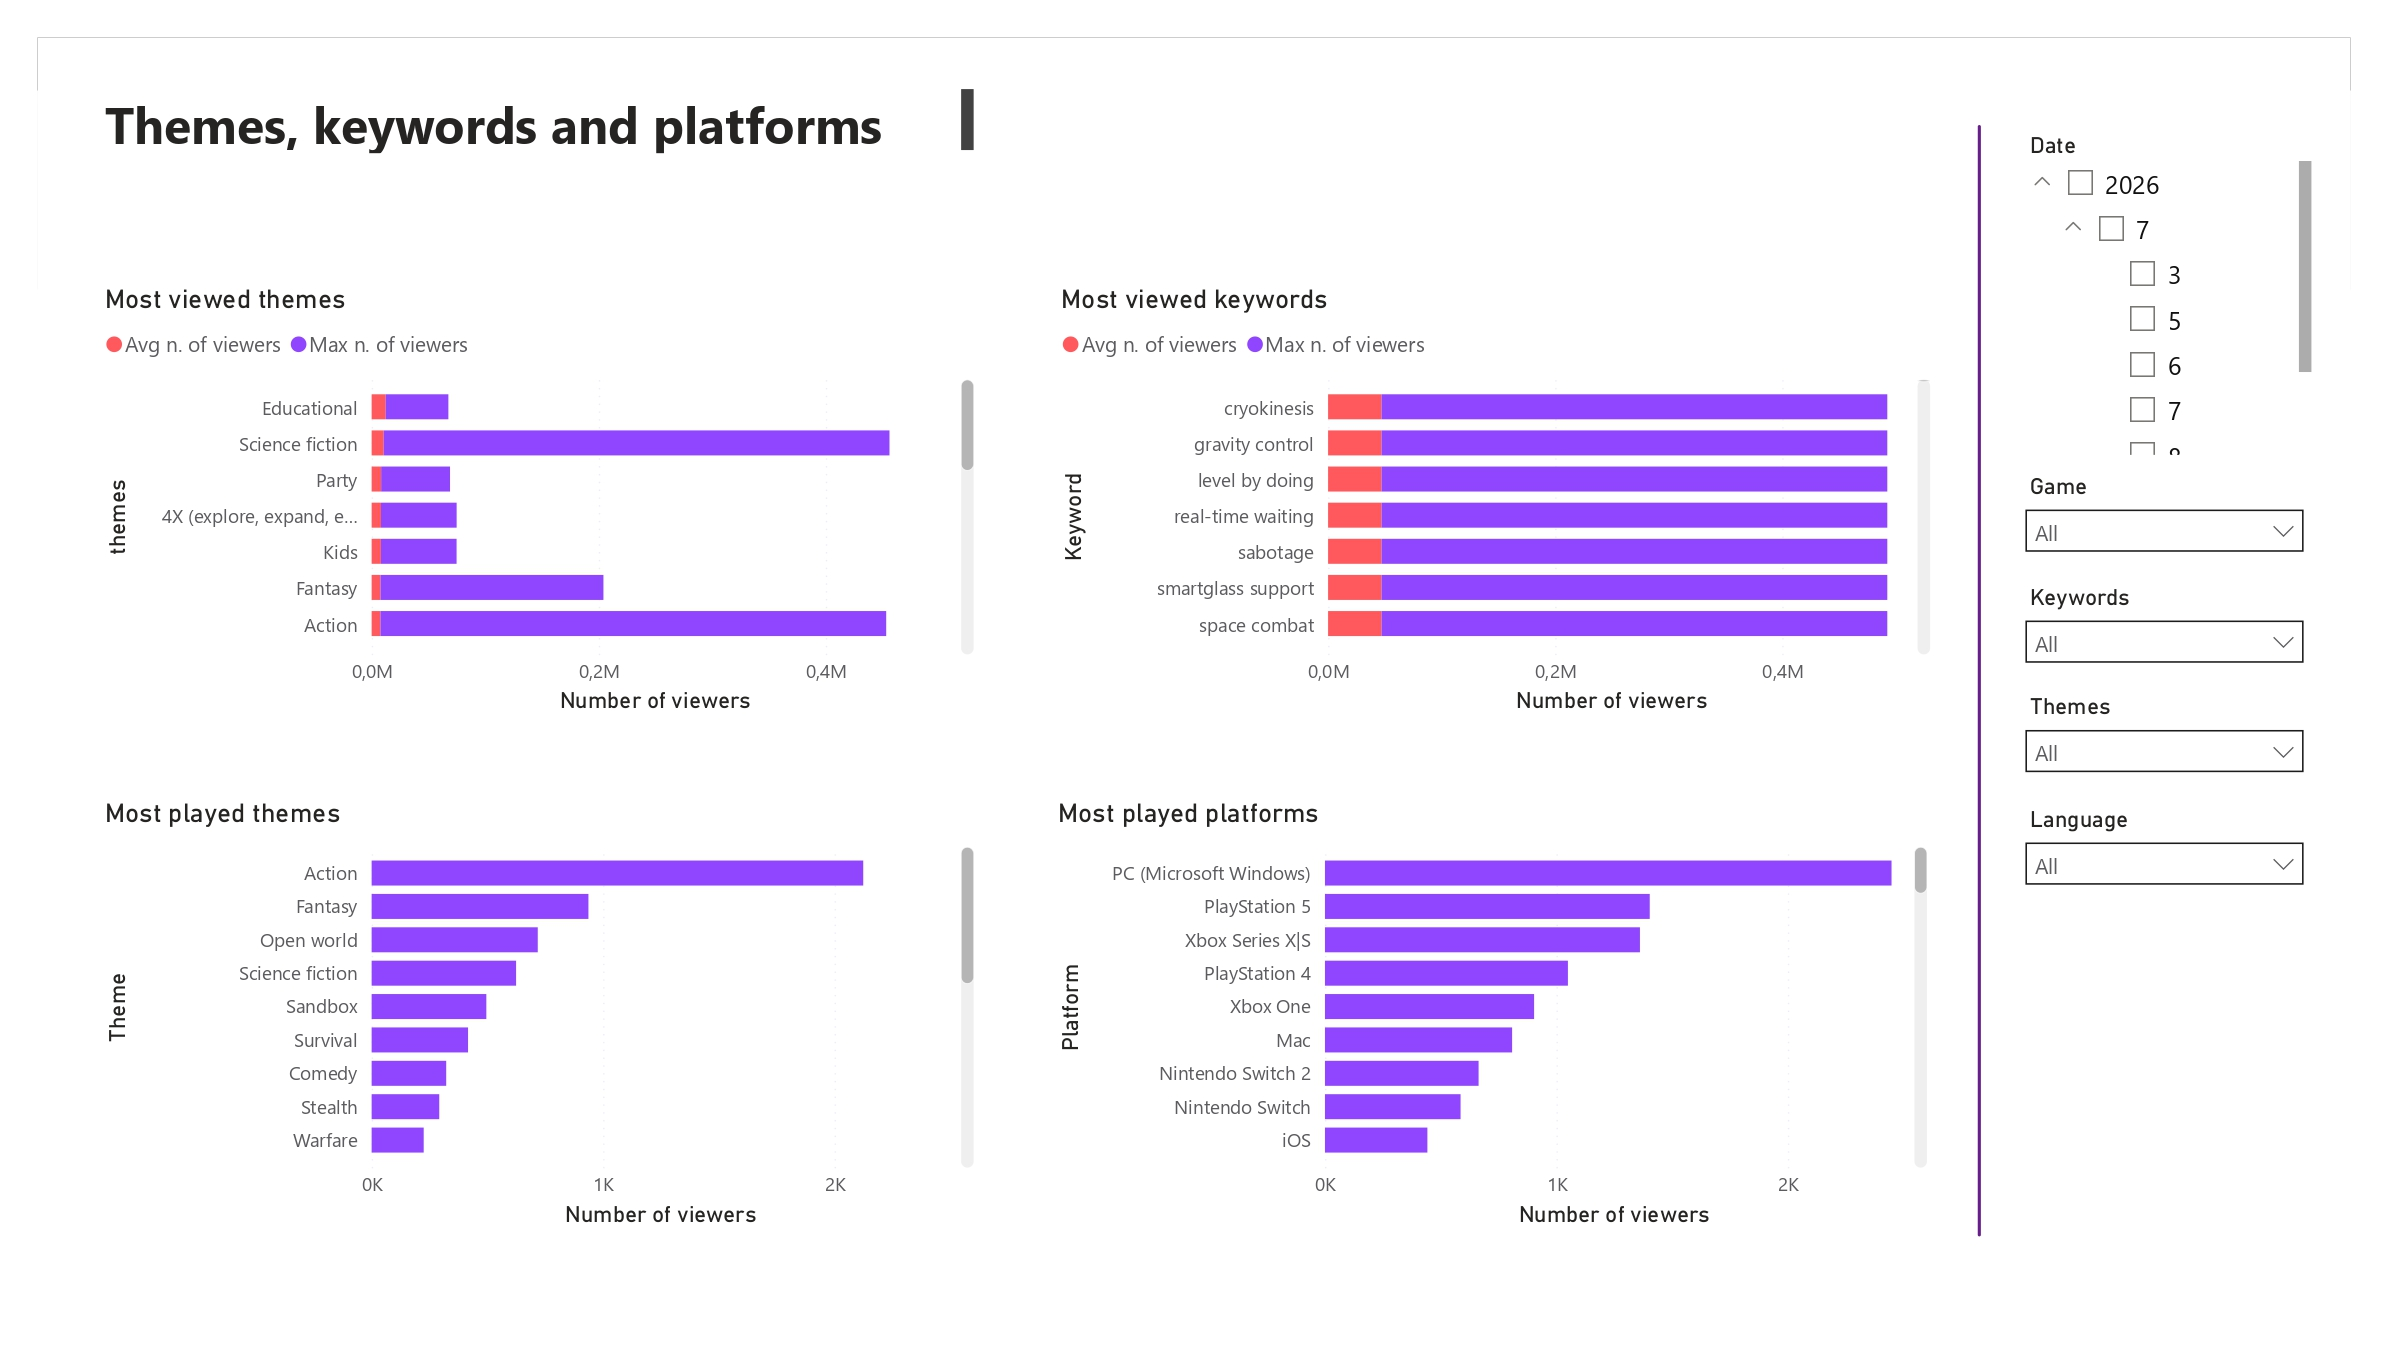

This screenshot's page, from the dashboard's own definition file:
{"tool":"powerbi","page":{"name":"Themes, keywords and platforms","canvas":[1480,820],"ordinal":2},"visuals":[{"type":"slicer","fields":{"Values":["dim_game.game_name"]},"box":[1261.6,273.9,198.7,70.7],"z":0},{"type":"slicer","fields":{"Values":["dim_date.date_year","dim_date.date_month","dim_date.date_day"]},"box":[1261.6,55.7,198.7,217.2],"z":1000},{"type":"slicer","fields":{"Values":["game_themes.themes"]},"box":[1261.6,415.3,198.7,71.7],"z":2000},{"type":"slicer","fields":{"Values":["game_keywords.keywords"]},"box":[1261.6,344.6,198.7,70.7],"z":3000},{"type":"shape","box":[1214.4,55.6,56.7,711.7],"z":4000},{"type":"barChart","title":"Most viewed themes","fields":{"Category":["game_themes.themes"],"Y":["fact_stream_hourly.avg_viewers","Max(fact_stream_hourly.max_viewers)"]},"box":[38,157,566,280],"z":5000},{"type":"barChart","title":"Most played themes","fields":{"Category":["game_themes.themes"],"Y":["fact_stream_hourly.hours_online"]},"box":[38,486,566,280],"z":6000},{"type":"barChart","title":"Most viewed keywords","fields":{"Category":["game_keywords.keywords"],"Y":["fact_stream_hourly.avg_viewers","Max(fact_stream_hourly.max_viewers)"]},"box":[650,157,566,280],"z":7000},{"type":"barChart","title":"Most played platforms","fields":{"Category":["game_platforms.platforms"],"Y":["fact_stream_hourly.hours_online"]},"box":[648,486,566,280],"z":8000},{"type":"textbox","box":[38,28,566,51],"z":9000},{"type":"slicer","fields":{"Values":["dim_language.language"]},"box":[1262,487,198,72],"z":10000}]}

Visuals, with their boxes on the page's 1480x820 design canvas (x1, y1, x2, y2). These are canvas units, not pixel positions in the 2388x1357 screenshot, which may show the page scaled, cropped or inside an application window:
slicer - dim_game.game_name: 1262, 274, 1460, 345
slicer - dim_date.date_year x dim_date.date_month: 1262, 56, 1460, 273
slicer - game_themes.themes: 1262, 415, 1460, 487
slicer - game_keywords.keywords: 1262, 345, 1460, 415
shape: 1214, 56, 1271, 767
"Most viewed themes" barChart: 38, 157, 604, 437
"Most played themes" barChart: 38, 486, 604, 766
"Most viewed keywords" barChart: 650, 157, 1216, 437
"Most played platforms" barChart: 648, 486, 1214, 766
textbox: 38, 28, 604, 79
slicer - dim_language.language: 1262, 487, 1460, 559
